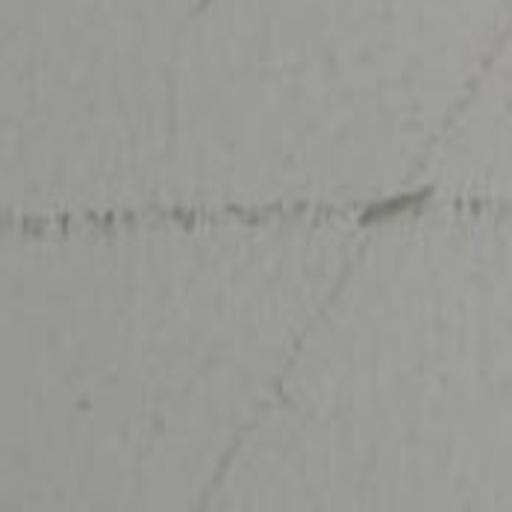stain: (8, 172, 512, 261)
